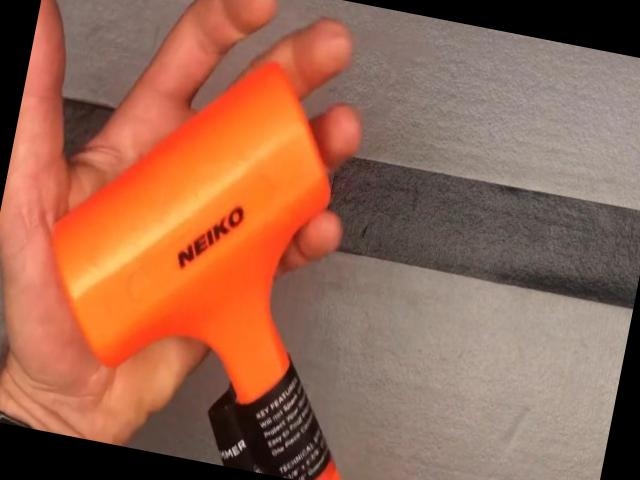hammer: (9, 26, 425, 480)
